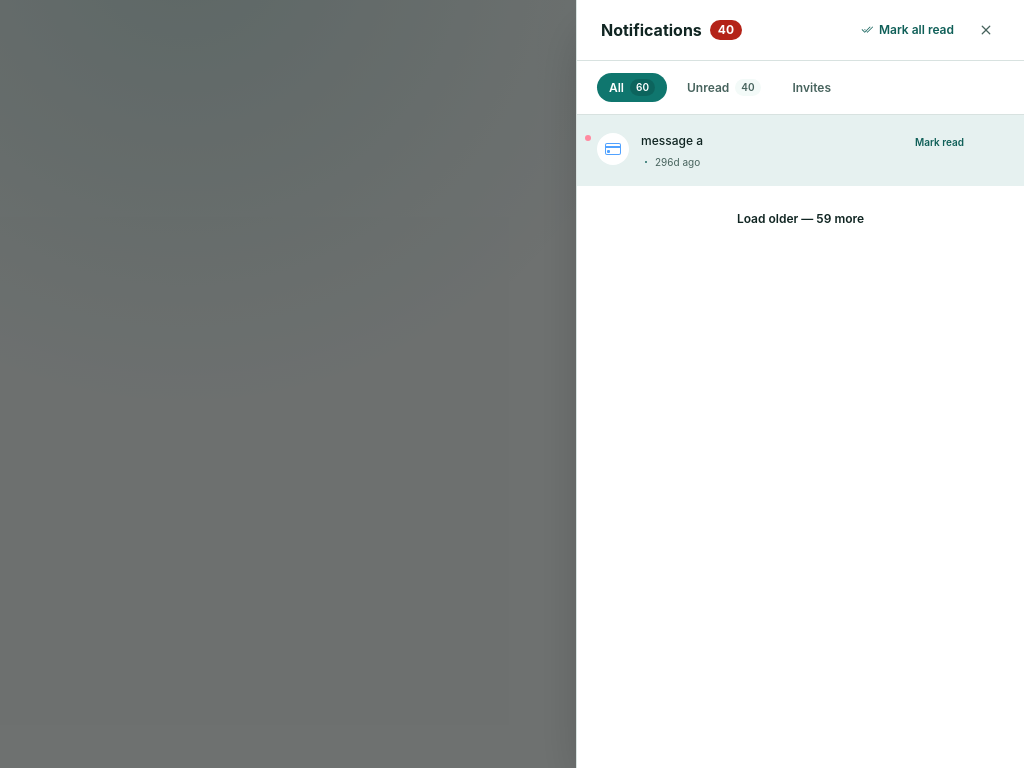
Test: notification panel pagination affordances › says so when unread rows exist beyond the loaded page
Step 1. Click the button "Unread 40" → coordinates (724, 88), box [675, 73, 772, 102]
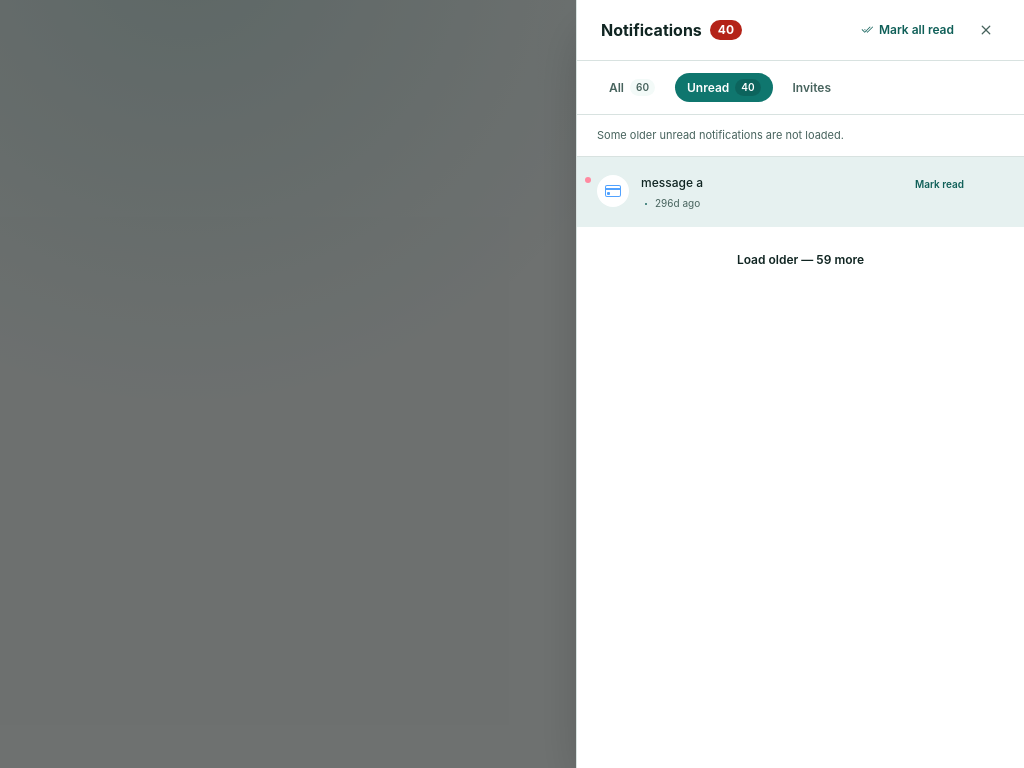
Expected: the text "Some older unread notifications are not loaded." is shown, [577, 115, 1023, 157]
